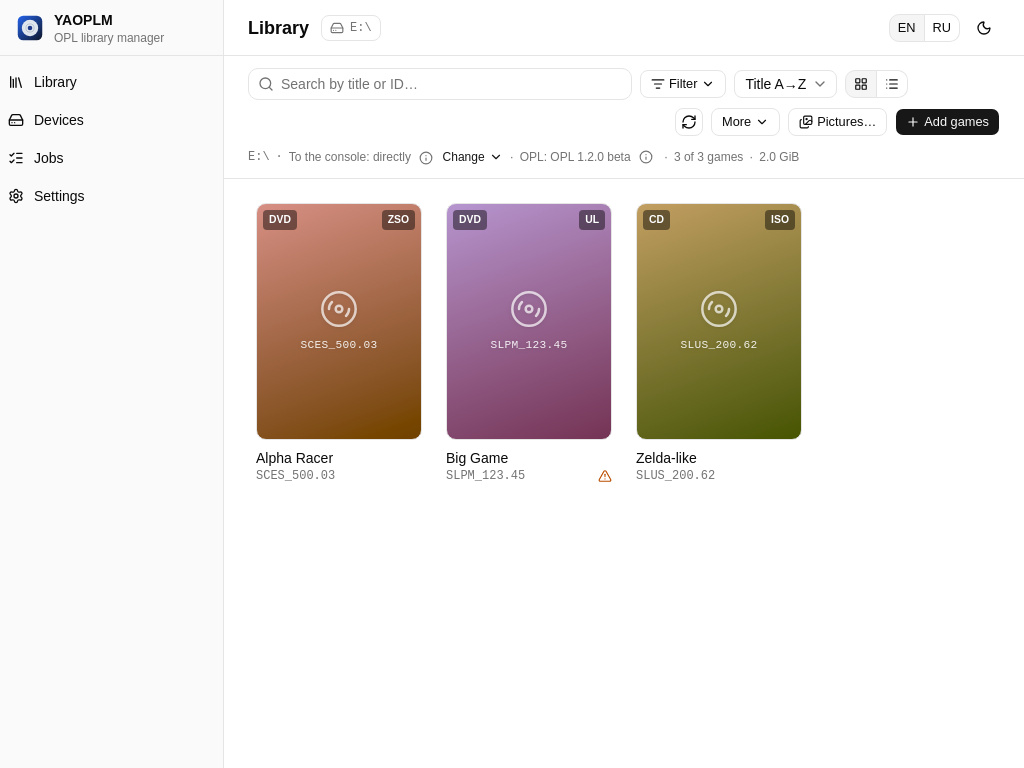
the library toolbar (LIB-5, UI-5) › offers the pictures through one button with two paths
The image size is (1024, 768).
Expected: the text "3 of 3 games" is shown, [674,149,759,165]
Step 1. Click the button with test id "library-more" → (746, 122), box [711,108,780,136]
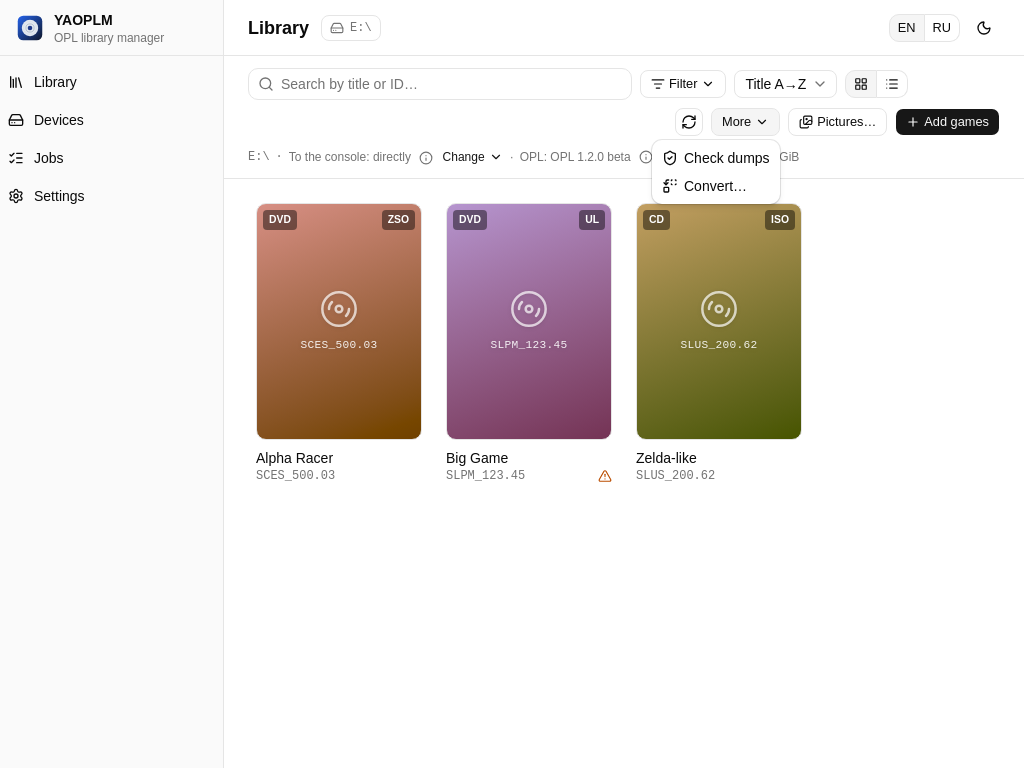
Step 2. Press Escape
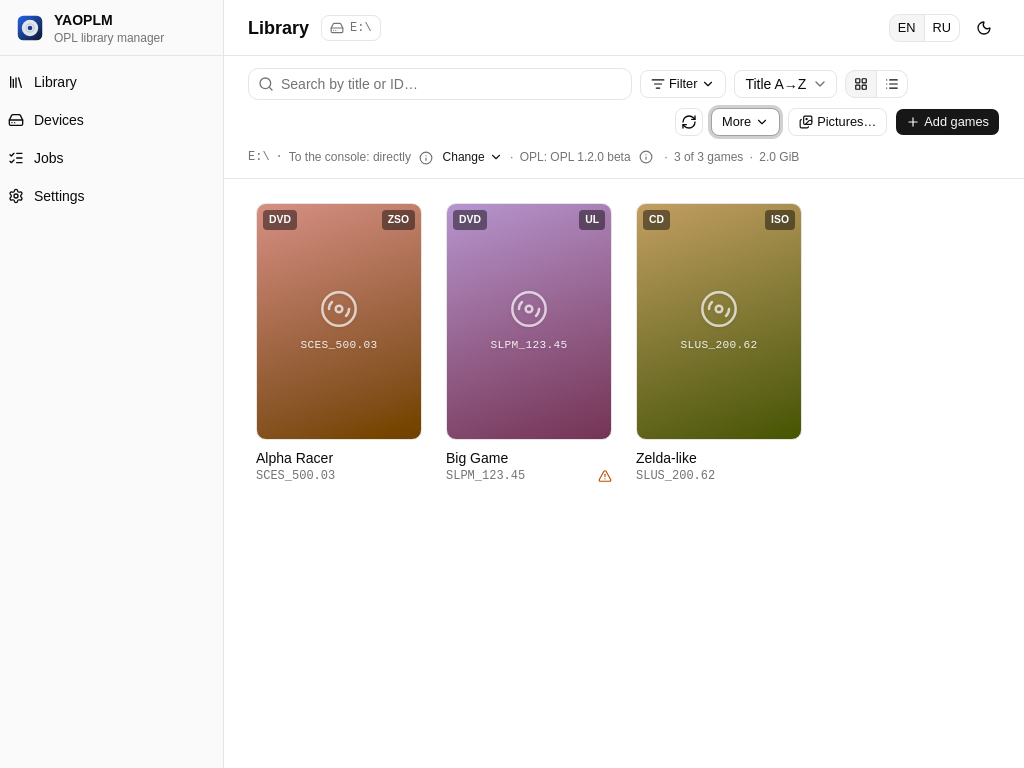
Step 3. Click the button "Pictures…" → (838, 122), box [788,108,887,136]
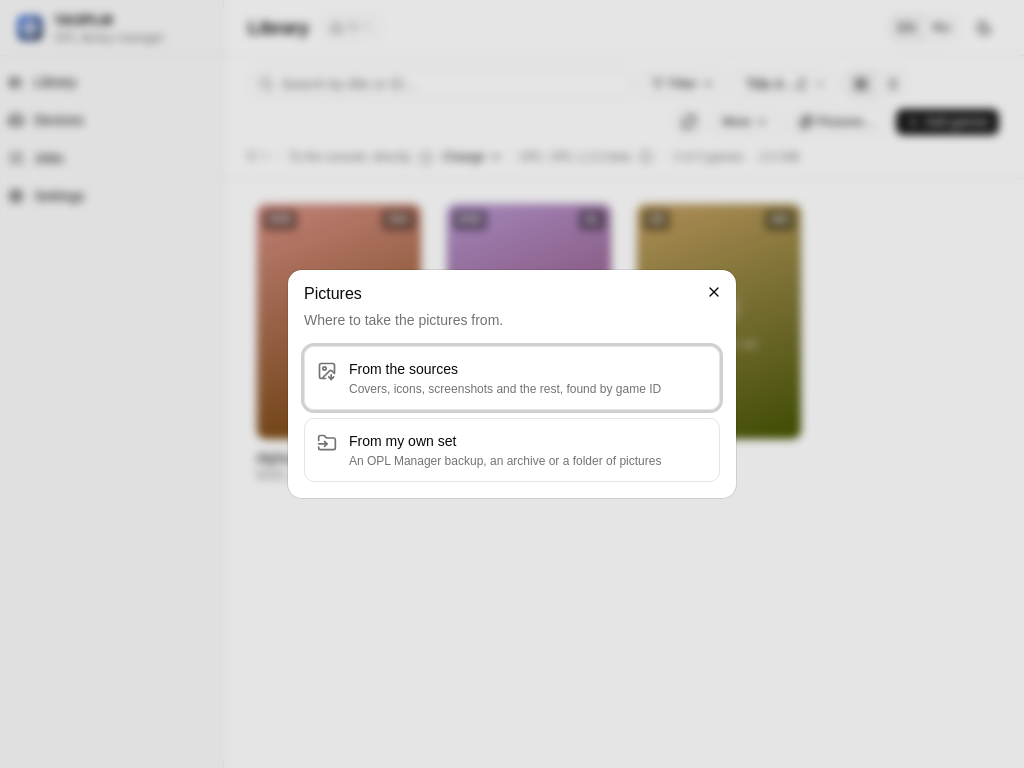
Expected: the button with test id "pictures-from-sources" shows "From the sources", [304,346,720,410]
Step 4. Click the button with test id "pictures-from-set" → (403, 441), box [304,418,720,482]
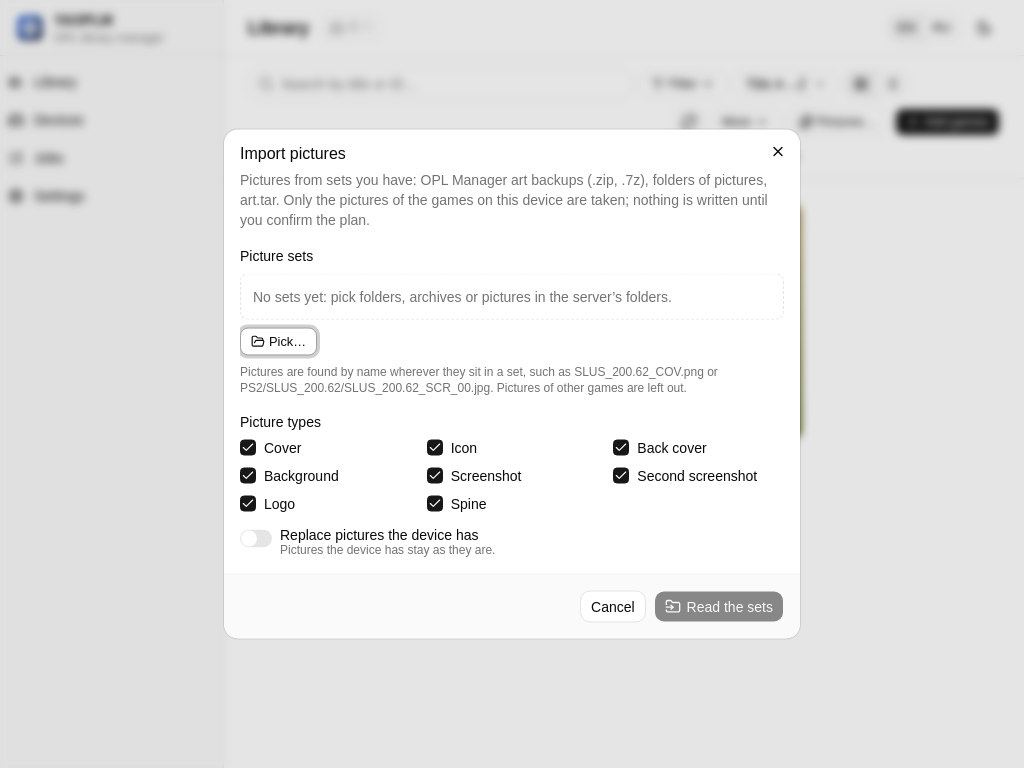
Expected: the dialog with test id "art-import-dialog" is shown, [224,130,800,638]
Expected: the dialog with test id "pictures-dialog" is gone
